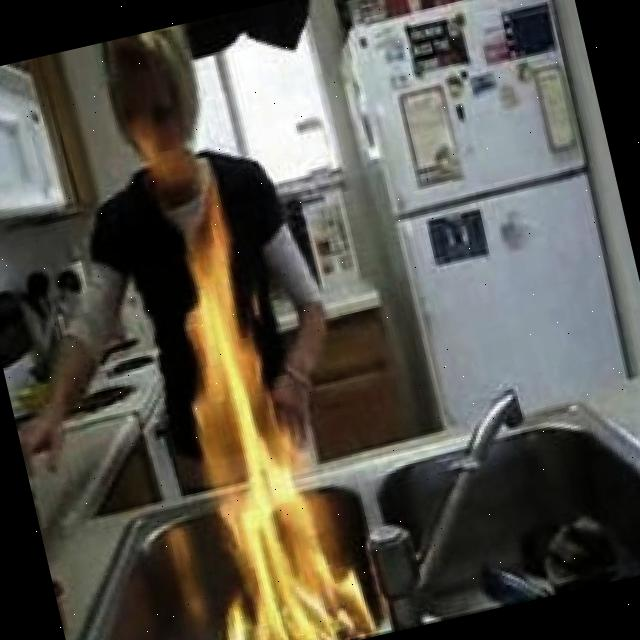fire: (142, 189, 367, 640)
